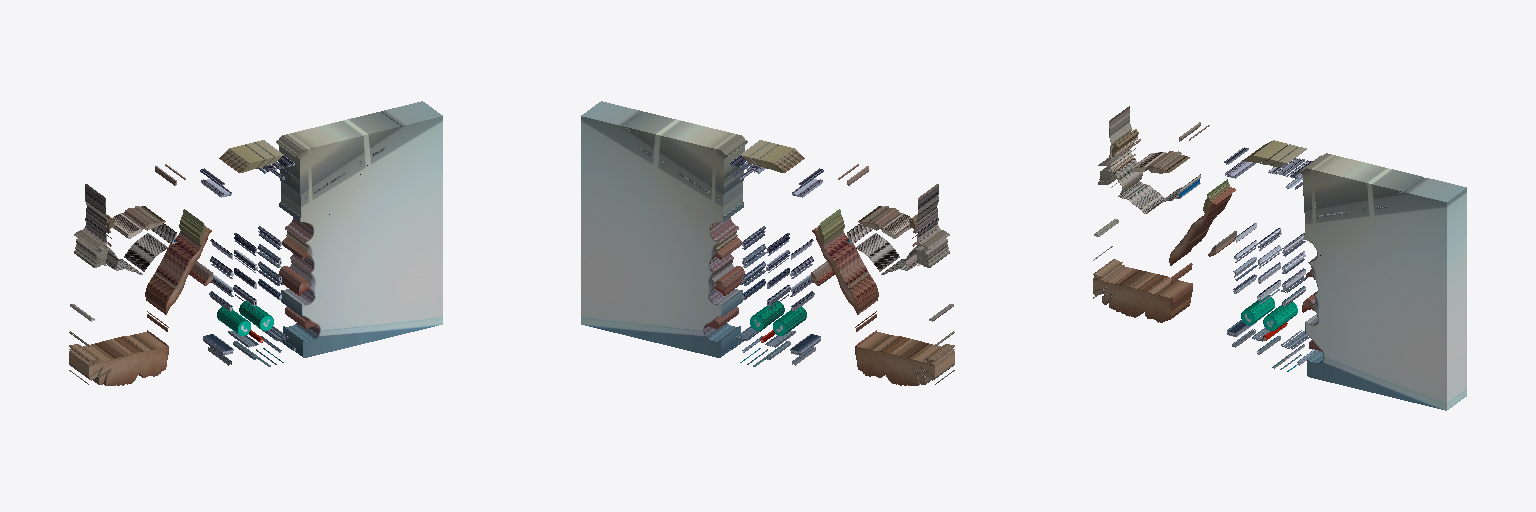
The picture shows the model from 3 angles: view 1: azimuth 30°, elevation 25°; view 2: azimuth 150°, elevation 25°; view 3: azimuth 330°, elevation 25°; orthographic projection.
Visible parts, largest first — view 1: Object.51, Object.47, Object.48, Object.6, Object.44, Object.93, Object.54, Object.55; view 2: Object.51, Object.47, Object.48, Object.6, Object.44, Object.93, Object.54, Object.55; view 3: Object.51, Object.47, Object.6, Object.48, Object.44, Object.54, Object.101, Object.55.
Part boxes in pixels (x1,y1,x2,y2): Object.51: (276,101,442,357); Object.47: (69,330,168,385); Object.48: (145,209,211,314); Object.6: (74,184,118,270); Object.44: (113,206,165,238); Object.93: (219,145,264,172); Object.54: (239,301,273,330); Object.55: (217,306,250,335); Object.51: (581,101,747,357); Object.47: (855,330,954,385); Object.48: (812,209,878,314); Object.6: (905,184,949,270); Object.44: (858,206,910,238); Object.93: (759,145,804,172); Object.54: (750,301,784,330); Object.55: (773,306,806,335); Object.51: (1300,153,1466,410); Object.47: (1093,264,1192,322); Object.6: (1098,106,1142,198); Object.48: (1169,179,1235,265); Object.44: (1132,151,1189,173); Object.54: (1263,301,1297,331); Object.101: (1128,185,1164,213); Object.55: (1241,295,1274,325).
Size of the model in its own units: 245 by 138 by 24.51.
Materials: 1 (1 with a texture image).